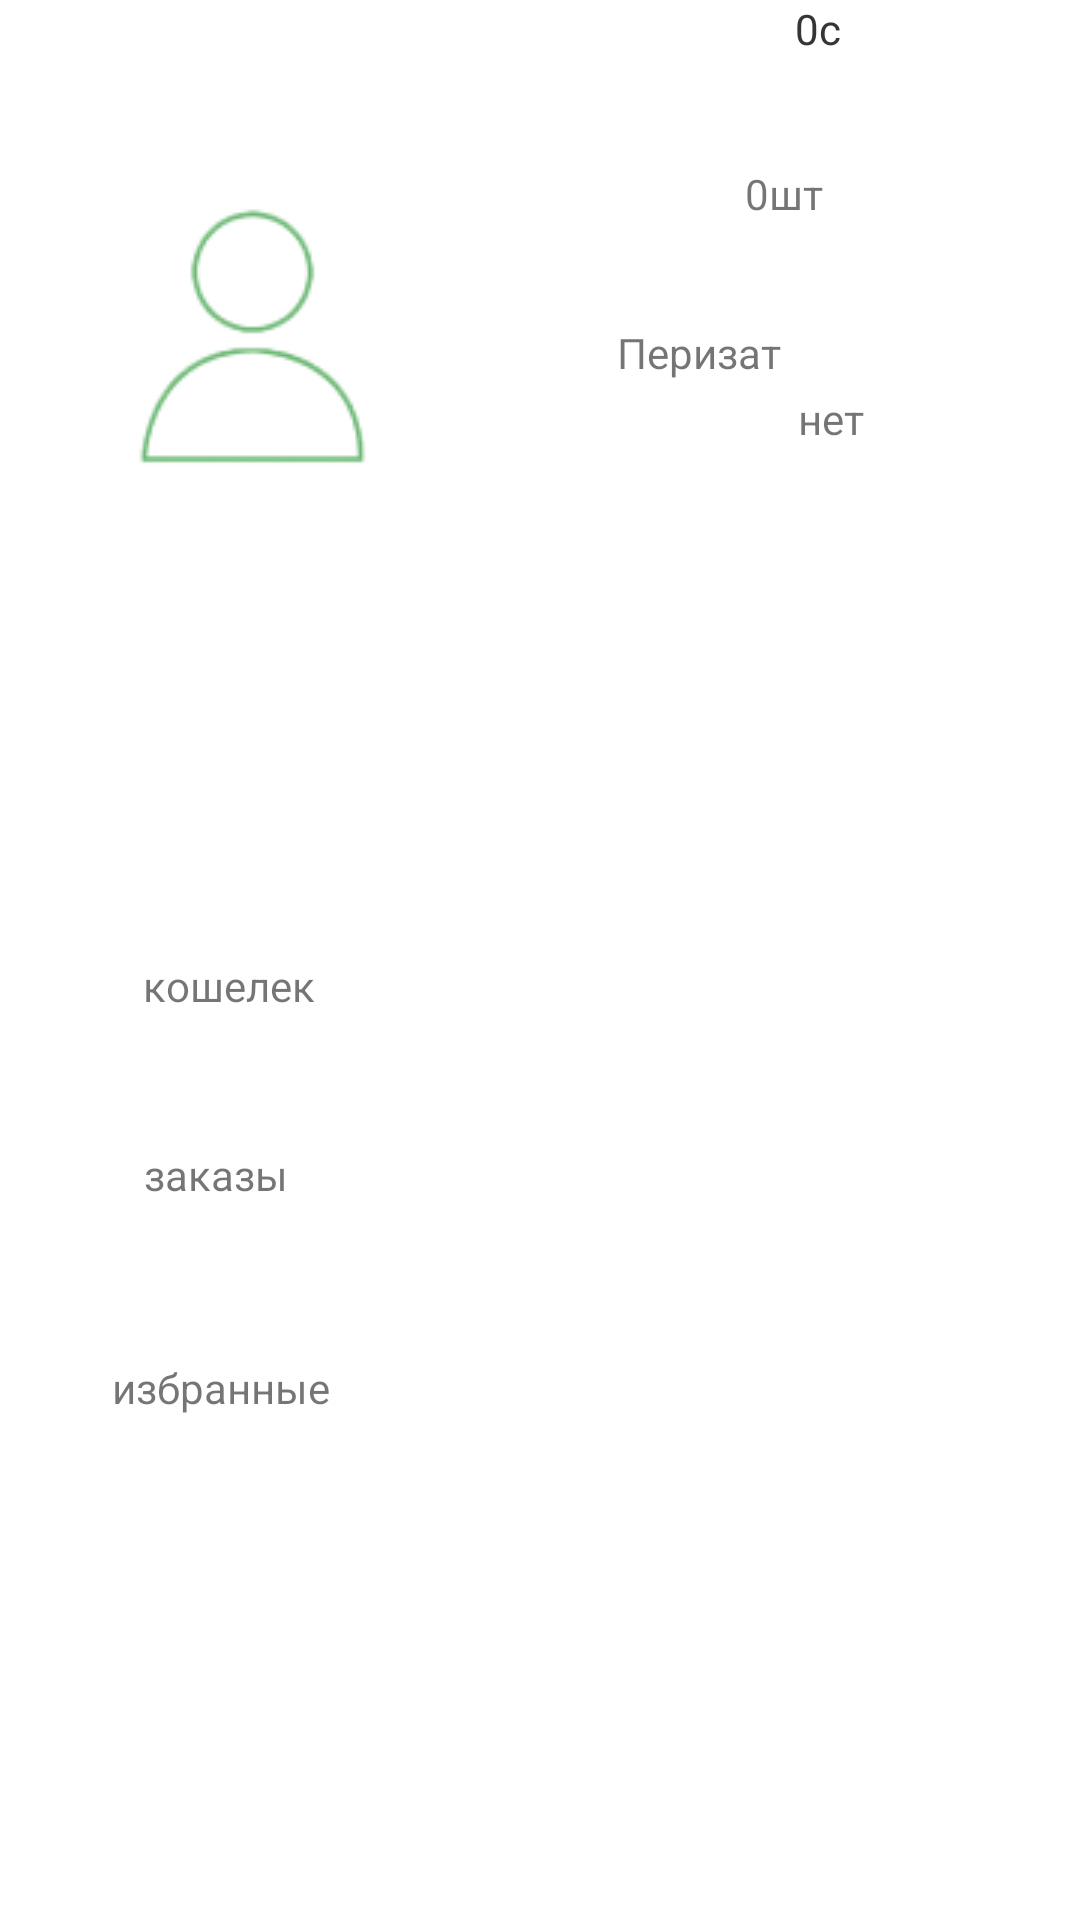

Icon bounding boxes for this 1080 × 1920 phone screenshot, format (x1, y1, x2, y2):
ava: (140, 209, 365, 463)
